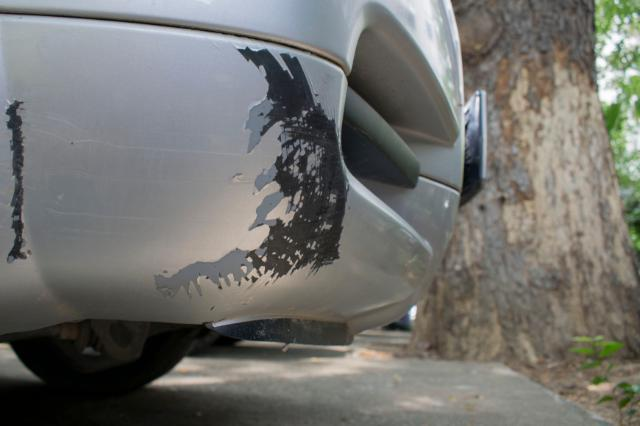Bumper: (3, 14, 359, 339)
